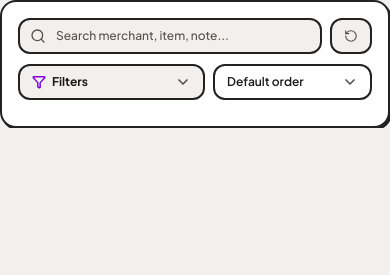
Test: Mobile-Friendly Filter, Search & Sort in Ledger › expands and collapses the mobile filter drawer when toggle button is clicked
Note: Click to expand drawer
Click the button with aria-label "toggle filters" at (112,82), box 18,64 -> 205,100
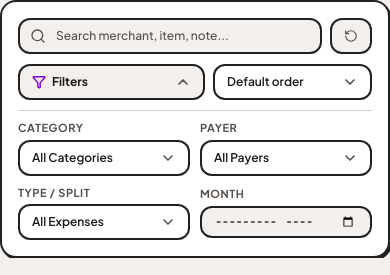
Result: the button with aria-label "toggle filters" is expanded
Note: Click again to collapse drawer
Click the button with aria-label "toggle filters" at (112,82), box 18,64 -> 205,100
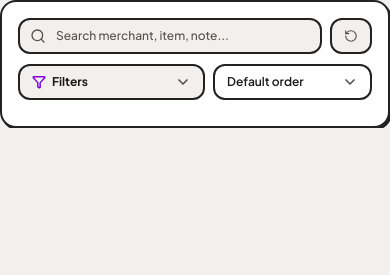
Result: the button with aria-label "toggle filters" is collapsed at 18,64 -> 205,100
